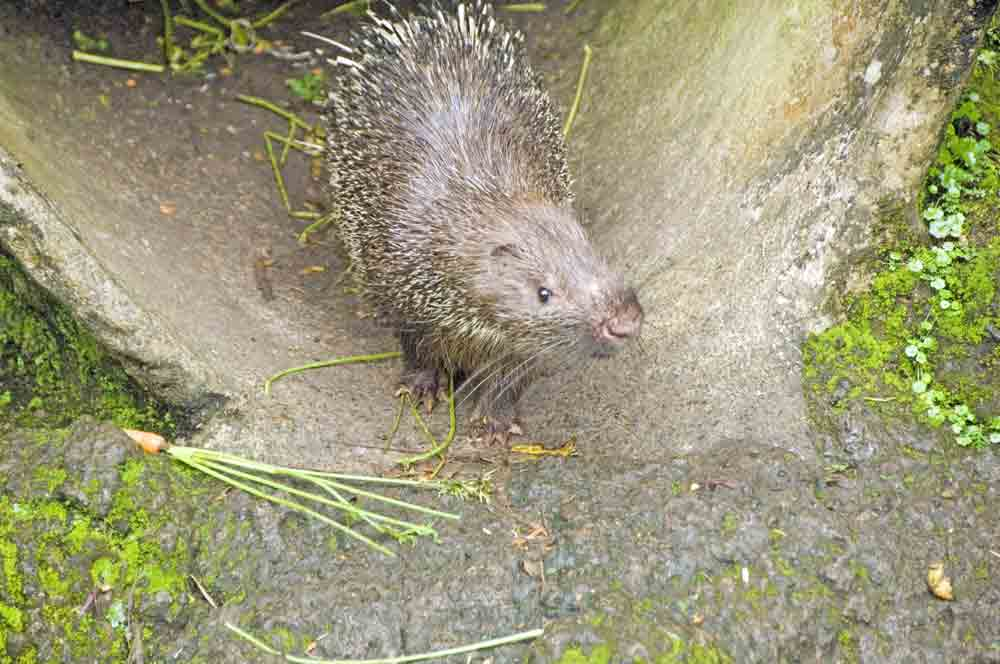porcupine: (268, 6, 699, 445)
